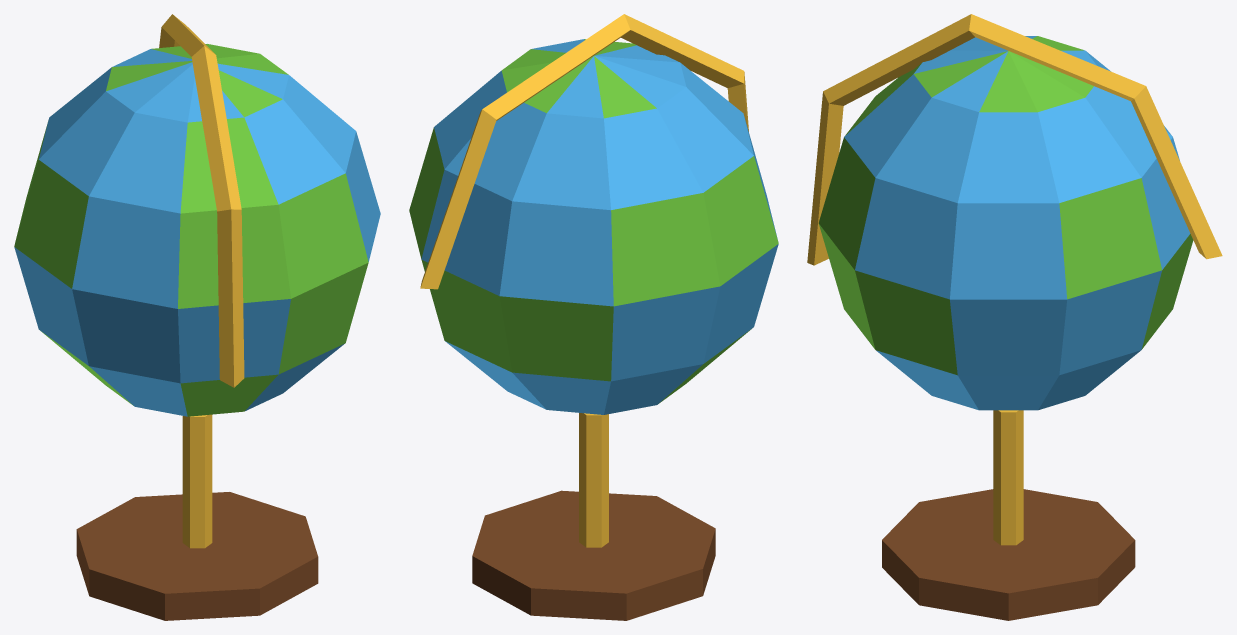
The model's file is Globe.fbx.
3 renders of one model, left to right at view 1: azimuth 30°, elevation 25°; view 2: azimuth 150°, elevation 25°; view 3: azimuth 270°, elevation 25°, orthographic.
Visible parts, largest first — view 1: Globe; view 2: Globe; view 3: Globe.
Part boxes in pixels (x1,y1,x2,y2): Globe: [14, 14, 380, 620]; Globe: [409, 14, 778, 620]; Globe: [807, 14, 1222, 620].
Size of the model in its own units: 1.43 by 2.39 by 1.64.
Materials: 1 (1 with a texture image).
